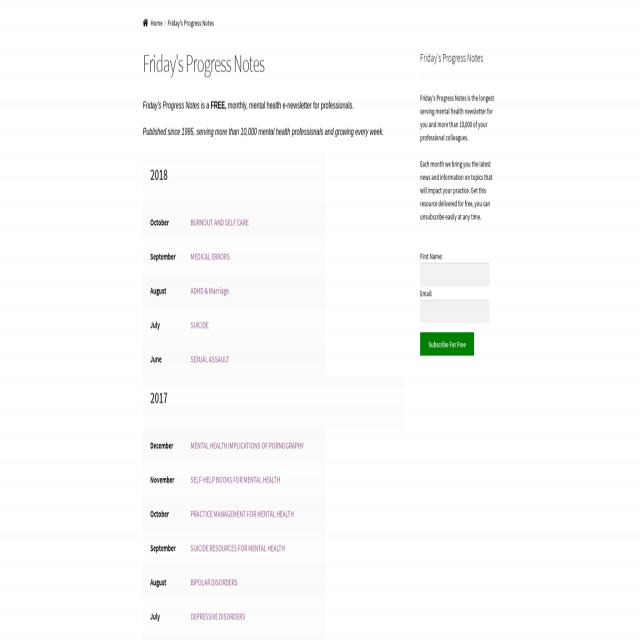button: (420, 332, 474, 356)
field: (420, 299, 490, 324), (420, 263, 490, 286)
